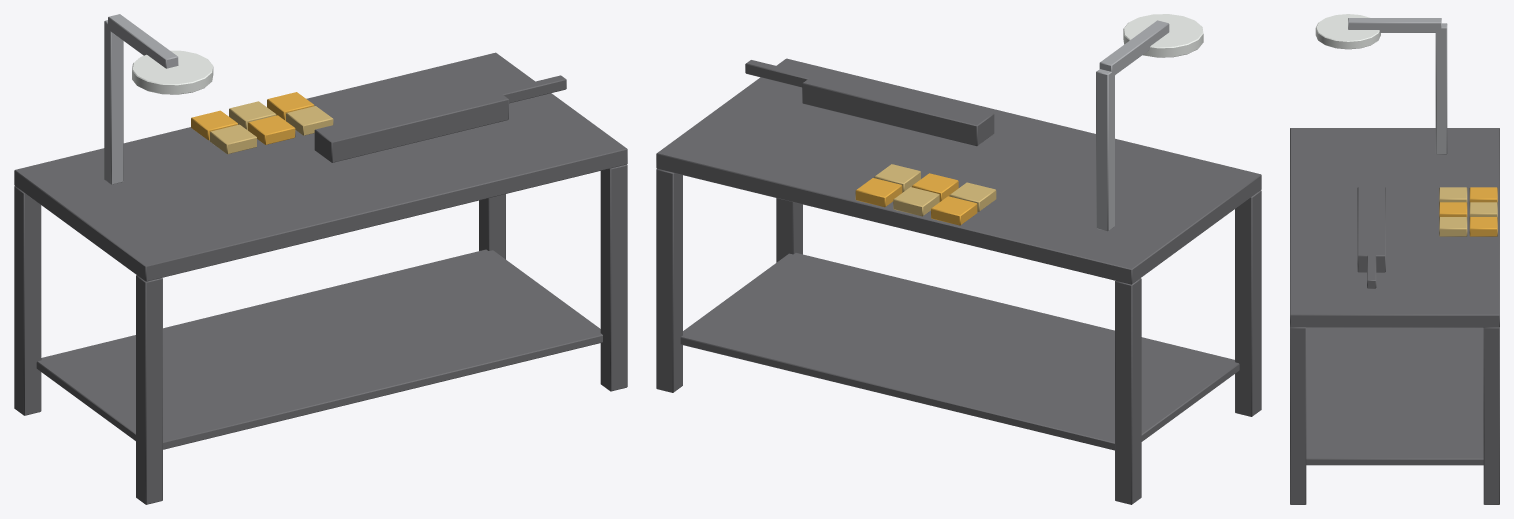
Rendered from feM_ModBench.fbx.
The picture shows the model from 3 angles, left to right: view 1: azimuth 30°, elevation 25°; view 2: azimuth 150°, elevation 25°; view 3: azimuth 270°, elevation 25°; orthographic projection. The views are drawn at different scales.
Parts seen in each view (by area): view 1: feM_ModBench_Base; view 2: feM_ModBench_Base; view 3: feM_ModBench_Base.
Boxes of the visible parts, <box> form: feM_ModBench_Base: <box>14,14,627,504</box>; feM_ModBench_Base: <box>656,14,1261,504</box>; feM_ModBench_Base: <box>1290,14,1499,504</box>.
Bounding box in the file's own units: 1.9 × 1.52 × 0.9.
